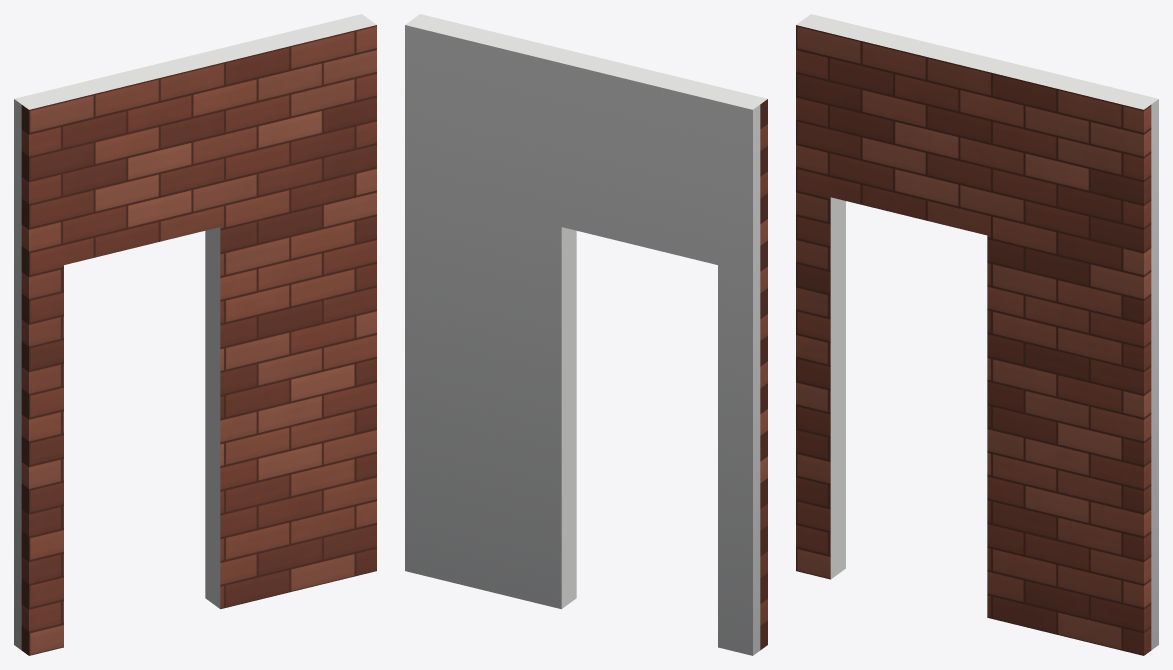
File: porta_lateral_2m.glb
3 views of the same model, side by side, from view 1: azimuth 30°, elevation 25°; view 2: azimuth 150°, elevation 25°; view 3: azimuth 330°, elevation 25° (orthographic).
Parts seen in each view (by area): view 1: porta_lateral_2m; view 2: porta_lateral_2m; view 3: porta_lateral_2m.
Boxes of the visible parts, x1=… form: porta_lateral_2m: x1=14, y1=14, x2=376, y2=655; porta_lateral_2m: x1=405, y1=14, x2=767, y2=655; porta_lateral_2m: x1=796, y1=14, x2=1158, y2=655.
Size of the model in its own units: 2 by 3 by 0.15.
3 materials, 2 textured.
